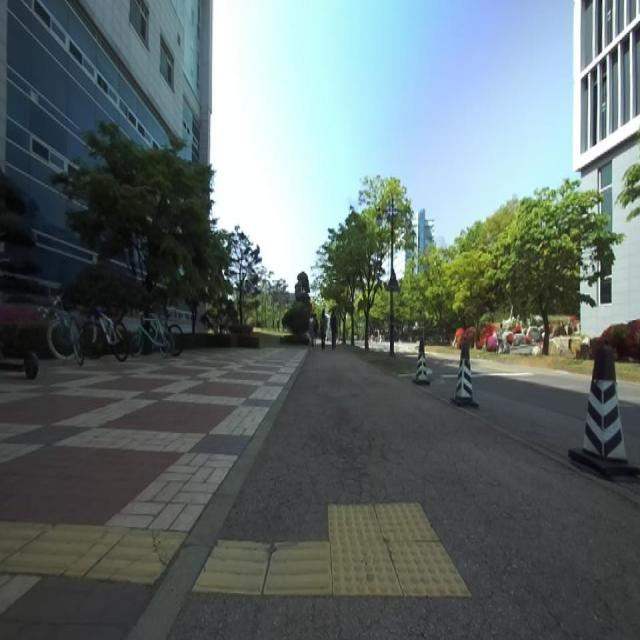sidewalk: (0, 348, 640, 639)
